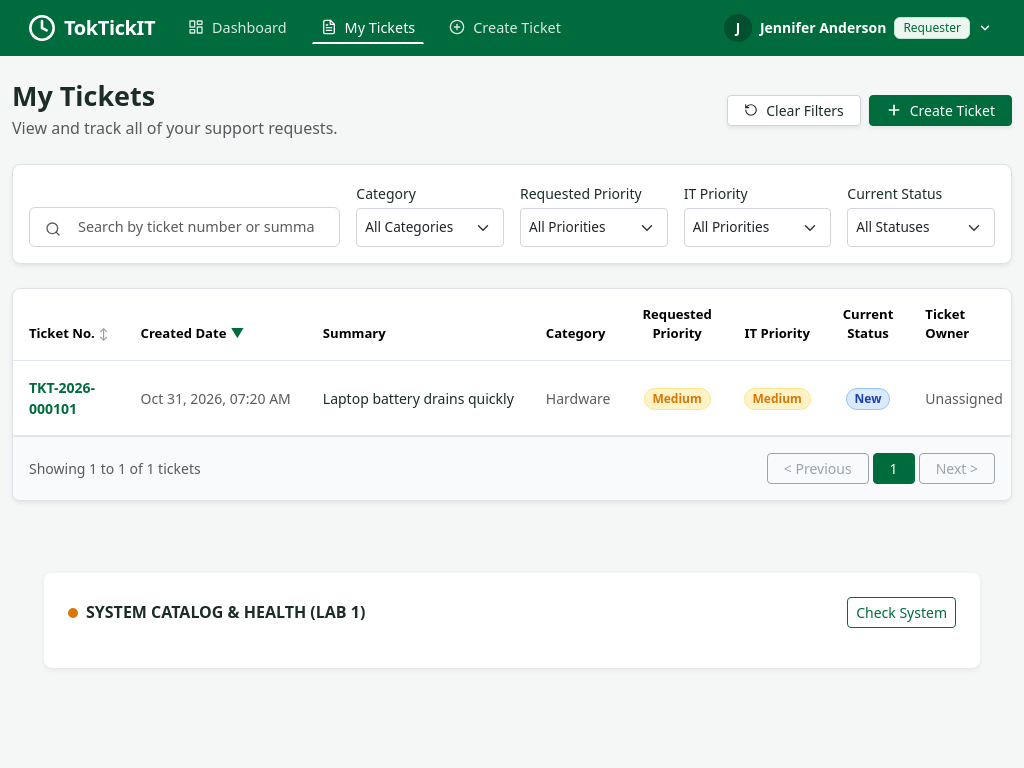
Test: Removal of Development Requester Selector and Legacy Requester Selection Flow › confirms Change / Switch Requester action is no longer present in header or profile menu
The width and height of the screenshot is (1024, 768).
# Click profile dropdown
Click the button with aria-label "Profile" at (858, 28), box [720, 10, 996, 46]
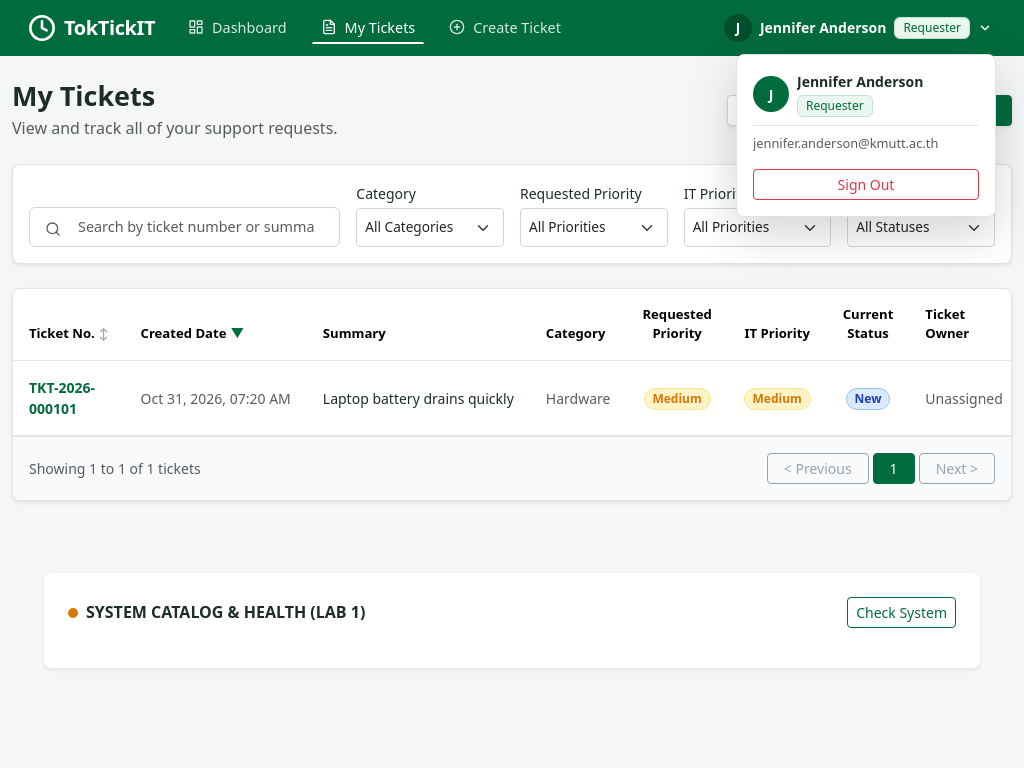
Result: the text "jennifer.anderson@kmutt.ac.th" is shown at [753, 134, 938, 152]
Result: the button "Sign Out" is shown at [753, 169, 979, 200]
